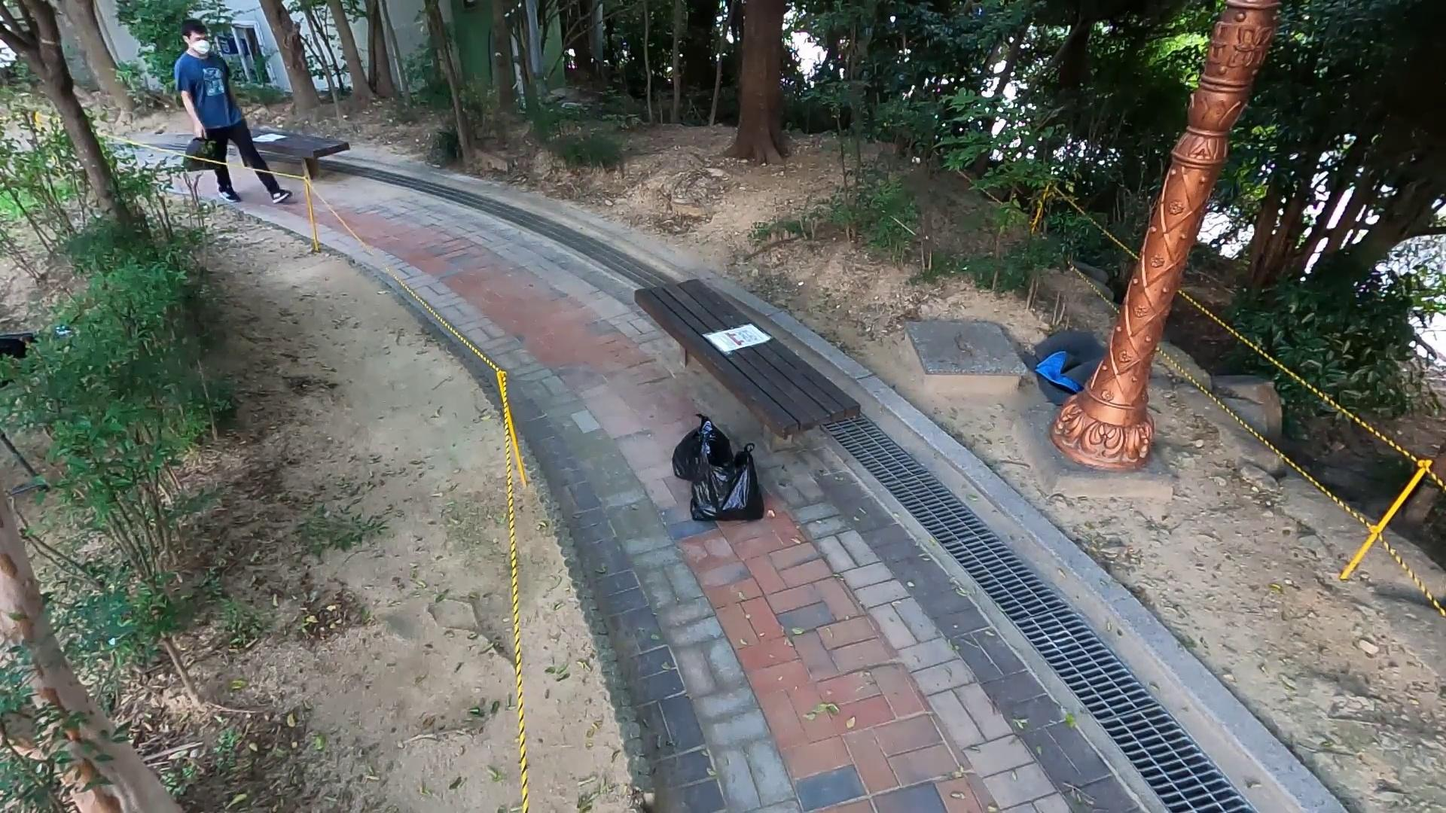person: (170, 15, 293, 207)
trash: (1020, 326, 1117, 407), (689, 441, 765, 525), (671, 413, 738, 482), (179, 134, 223, 173)
